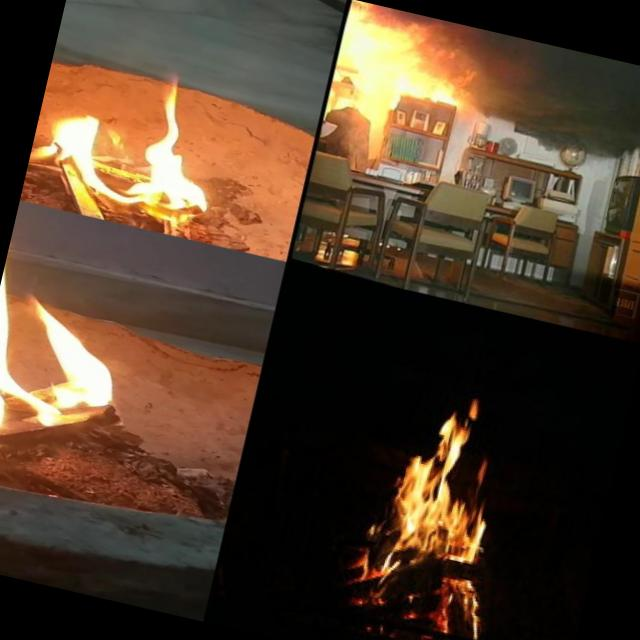fire: (0, 200, 176, 513), (336, 369, 539, 640), (19, 45, 252, 245), (330, 13, 469, 107)
